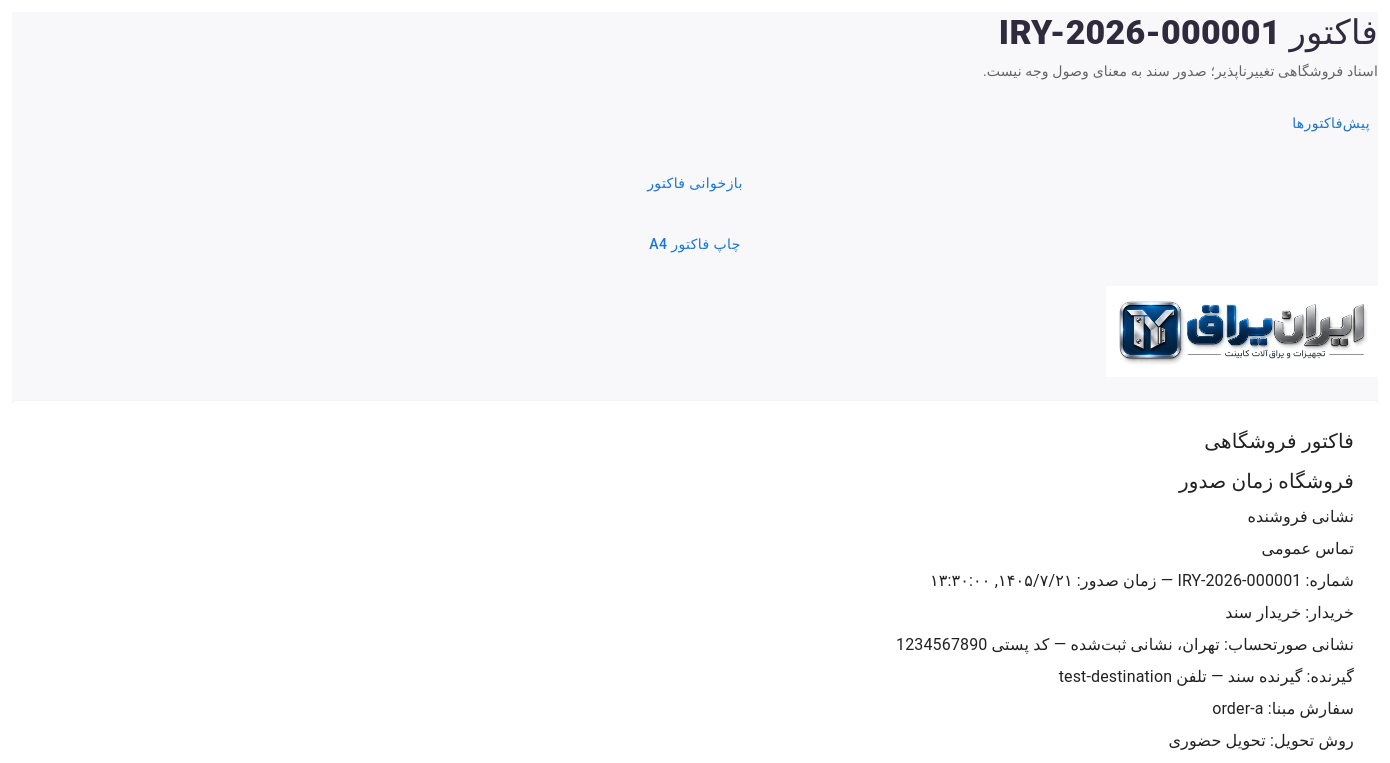
it: immutable issued invoice views › does not print a removed snapshot when a reload completes during asset preparation
This screenshot has width=1390, height=763.
Expected: the heading "فاکتور IRY-2026-000001" is shown, [983, 12, 1378, 53]
Click the button "چاپ فاکتور A4".
click(695, 244)  # box [12, 226, 1378, 262]
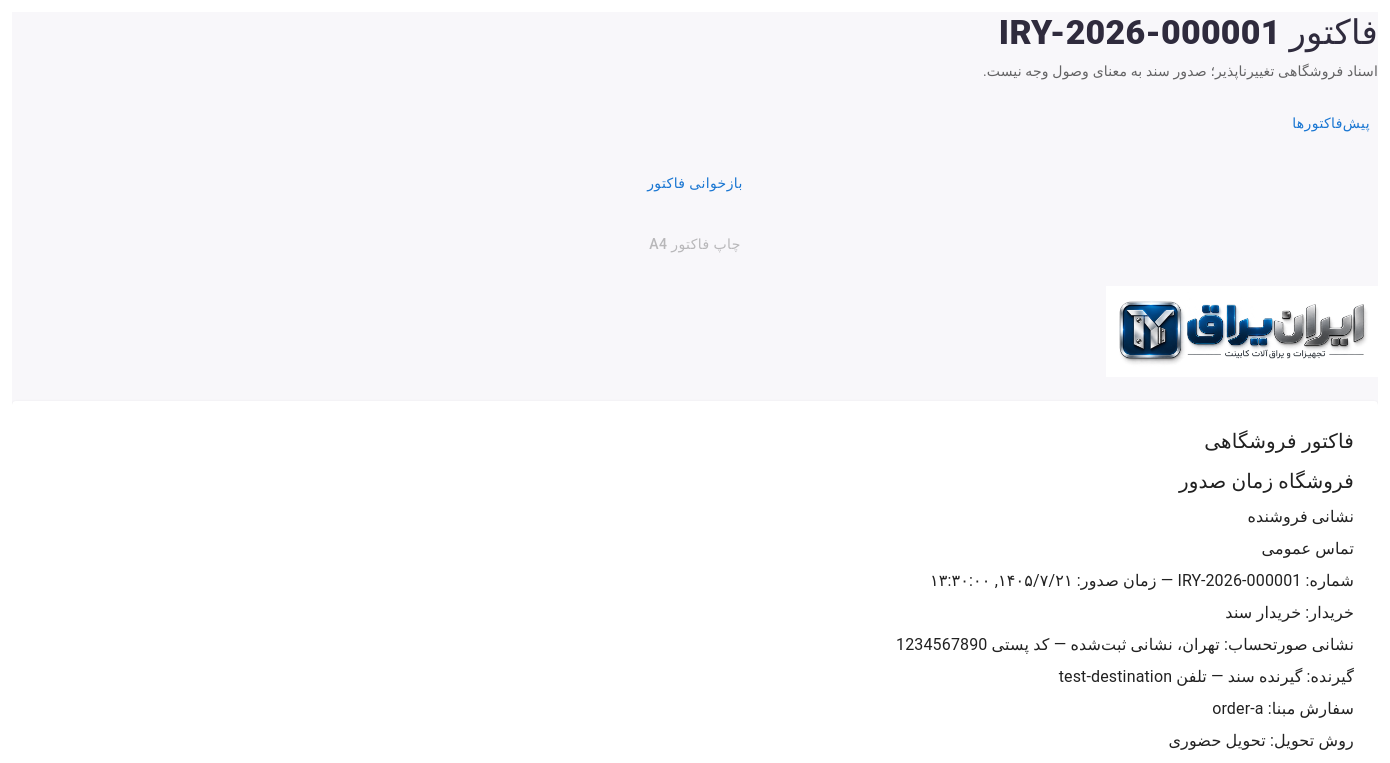
Click the button "بازخوانی فاکتور".
click(695, 184)  # box [12, 165, 1378, 202]
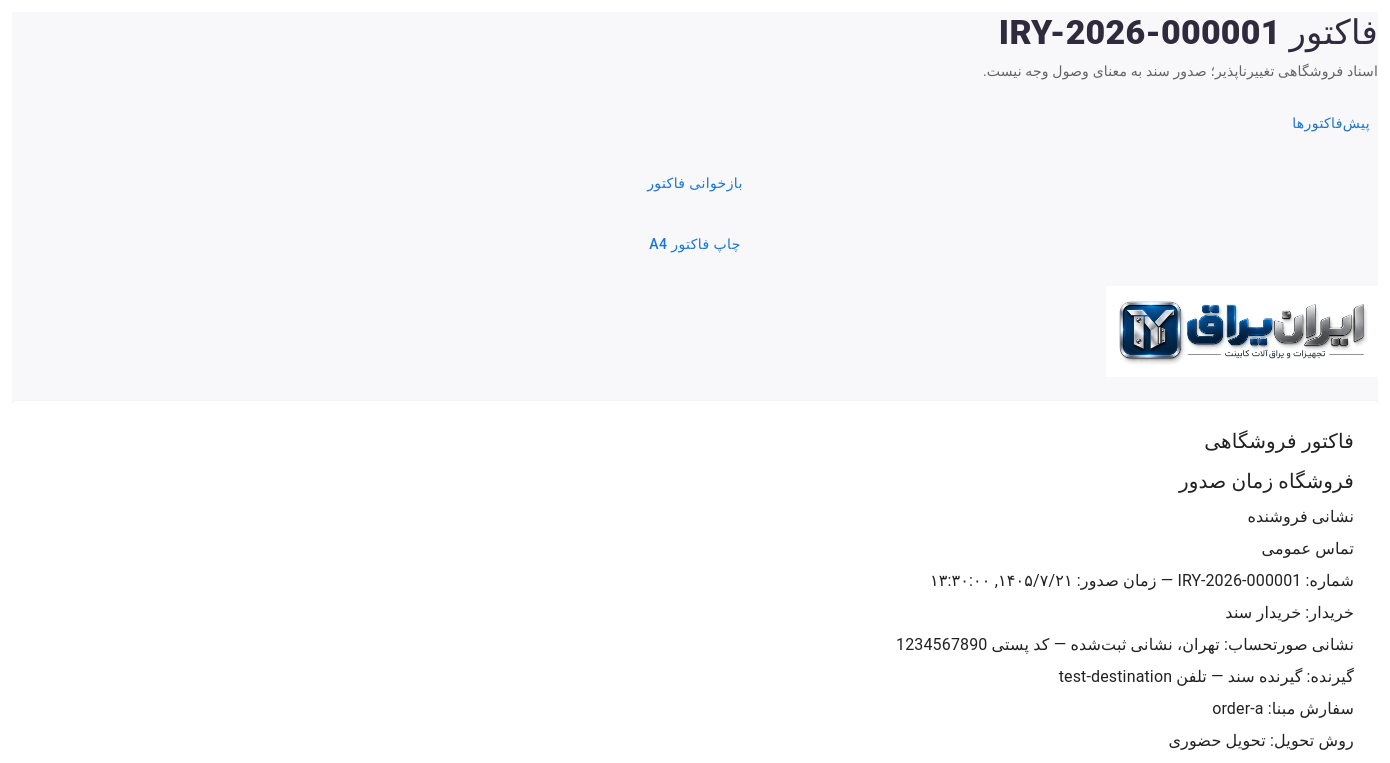
Expected: the heading "فاکتور IRY-2026-000001" is shown, [983, 12, 1378, 53]
Result: the button "چاپ فاکتور A4" is enabled at [12, 226, 1378, 262]
